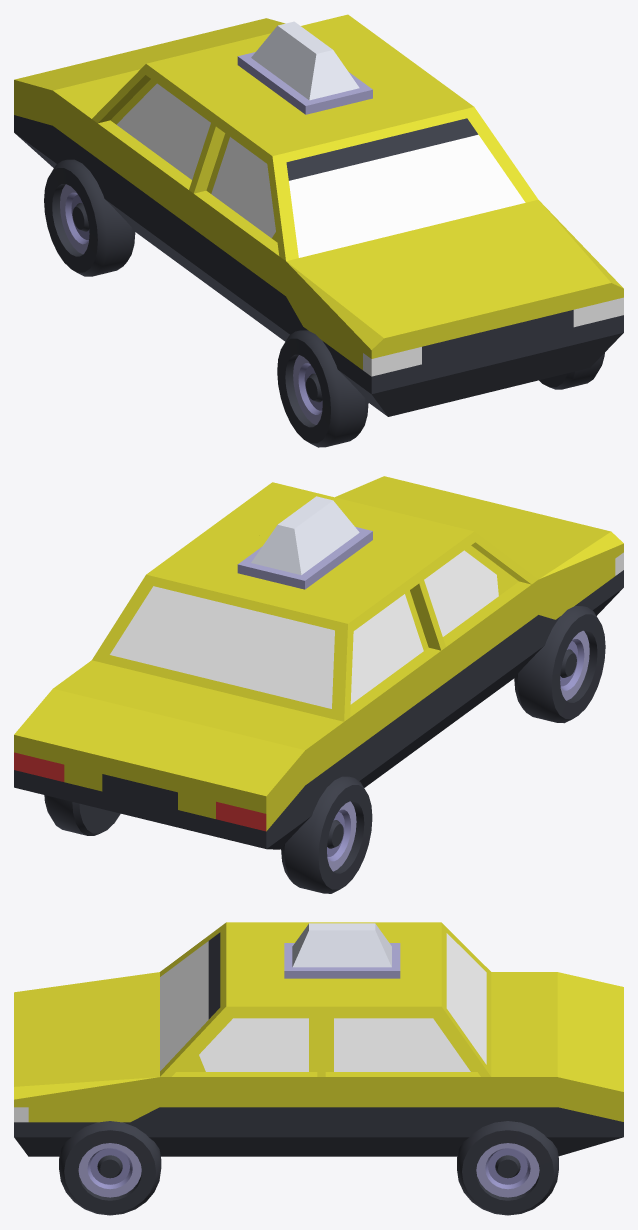
The model's file is Taxi.fbx.
The picture shows the model from 3 angles, top to bottom: view 1: azimuth 30°, elevation 25°; view 2: azimuth 150°, elevation 25°; view 3: azimuth 270°, elevation 25°; orthographic projection. The views are drawn at different scales.
Visible parts, largest first — view 1: mergedBlocks; view 2: mergedBlocks; view 3: mergedBlocks.
Part boxes in pixels (x1,y1,x2,y2): mergedBlocks: (14,14,623,447); mergedBlocks: (14,476,623,893); mergedBlocks: (14,922,623,1215).
Bounding box in the file's own units: 16.33 × 15.58 × 36.8.
